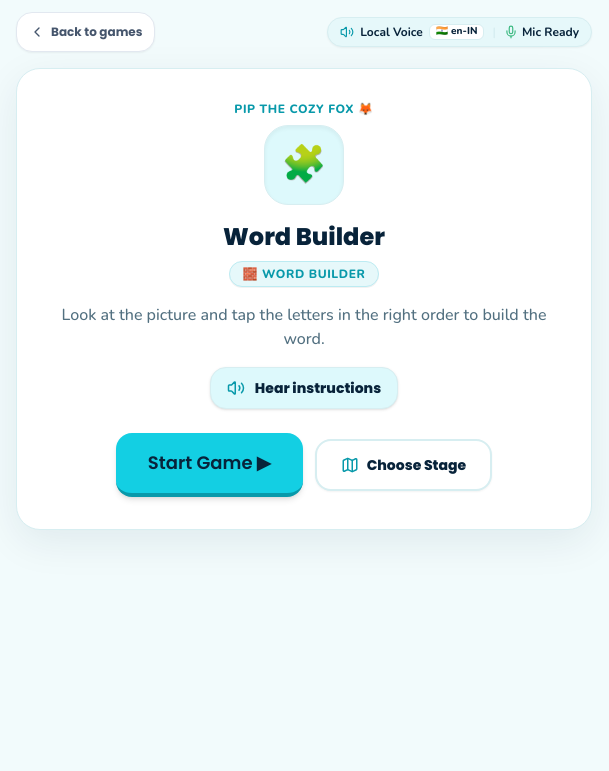
Test: Word Builder Step 2: Curriculum & Checkpoint Architecture › 13. displays GameProgressionHub on /child/games/build-word with Word Builder badge and 3 stages
expect the element with test id "progression-hub-card" is shown: met, box [16,68,592,530]
expect the element with test id "progression-hub-entry" is shown: met, box [49,101,559,497]
# Clicking choose stage opens the roadmap with all 3 stages
Click the button with test id "choose-stage-button".
click(403, 465)  # box [315,439,492,491]
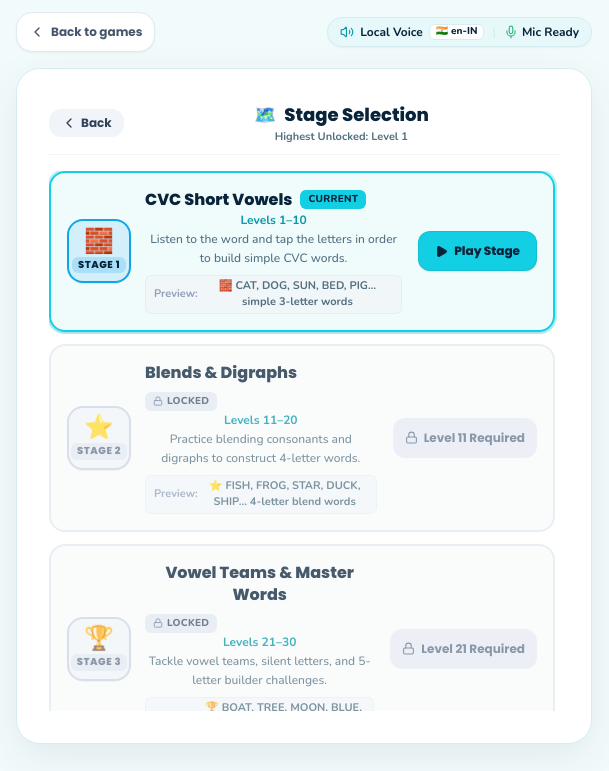
expect the element with test id "stages-roadmap-view" is shown: met
expect the text with test id "stage-title-1" reads "CVC Short Vowels": met, box [145,188,292,210]
expect the text with test id "stage-title-2" reads "Blends & Digraphs": met, box [145,360,297,384]
